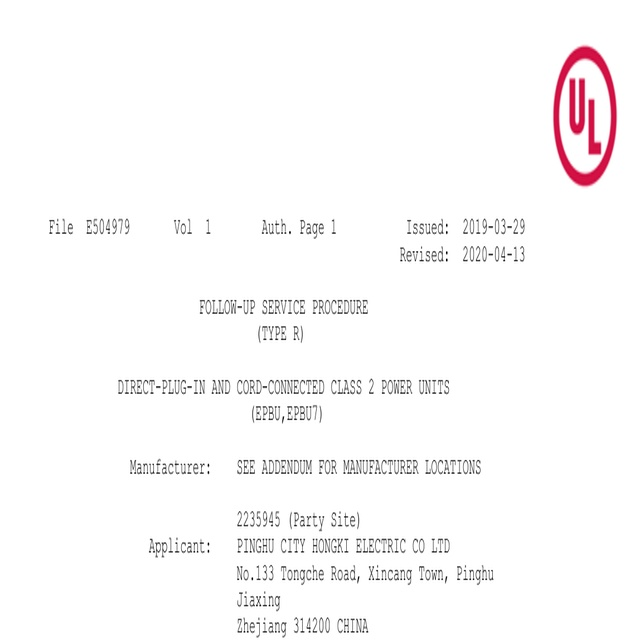ul: (551, 42, 618, 189)
